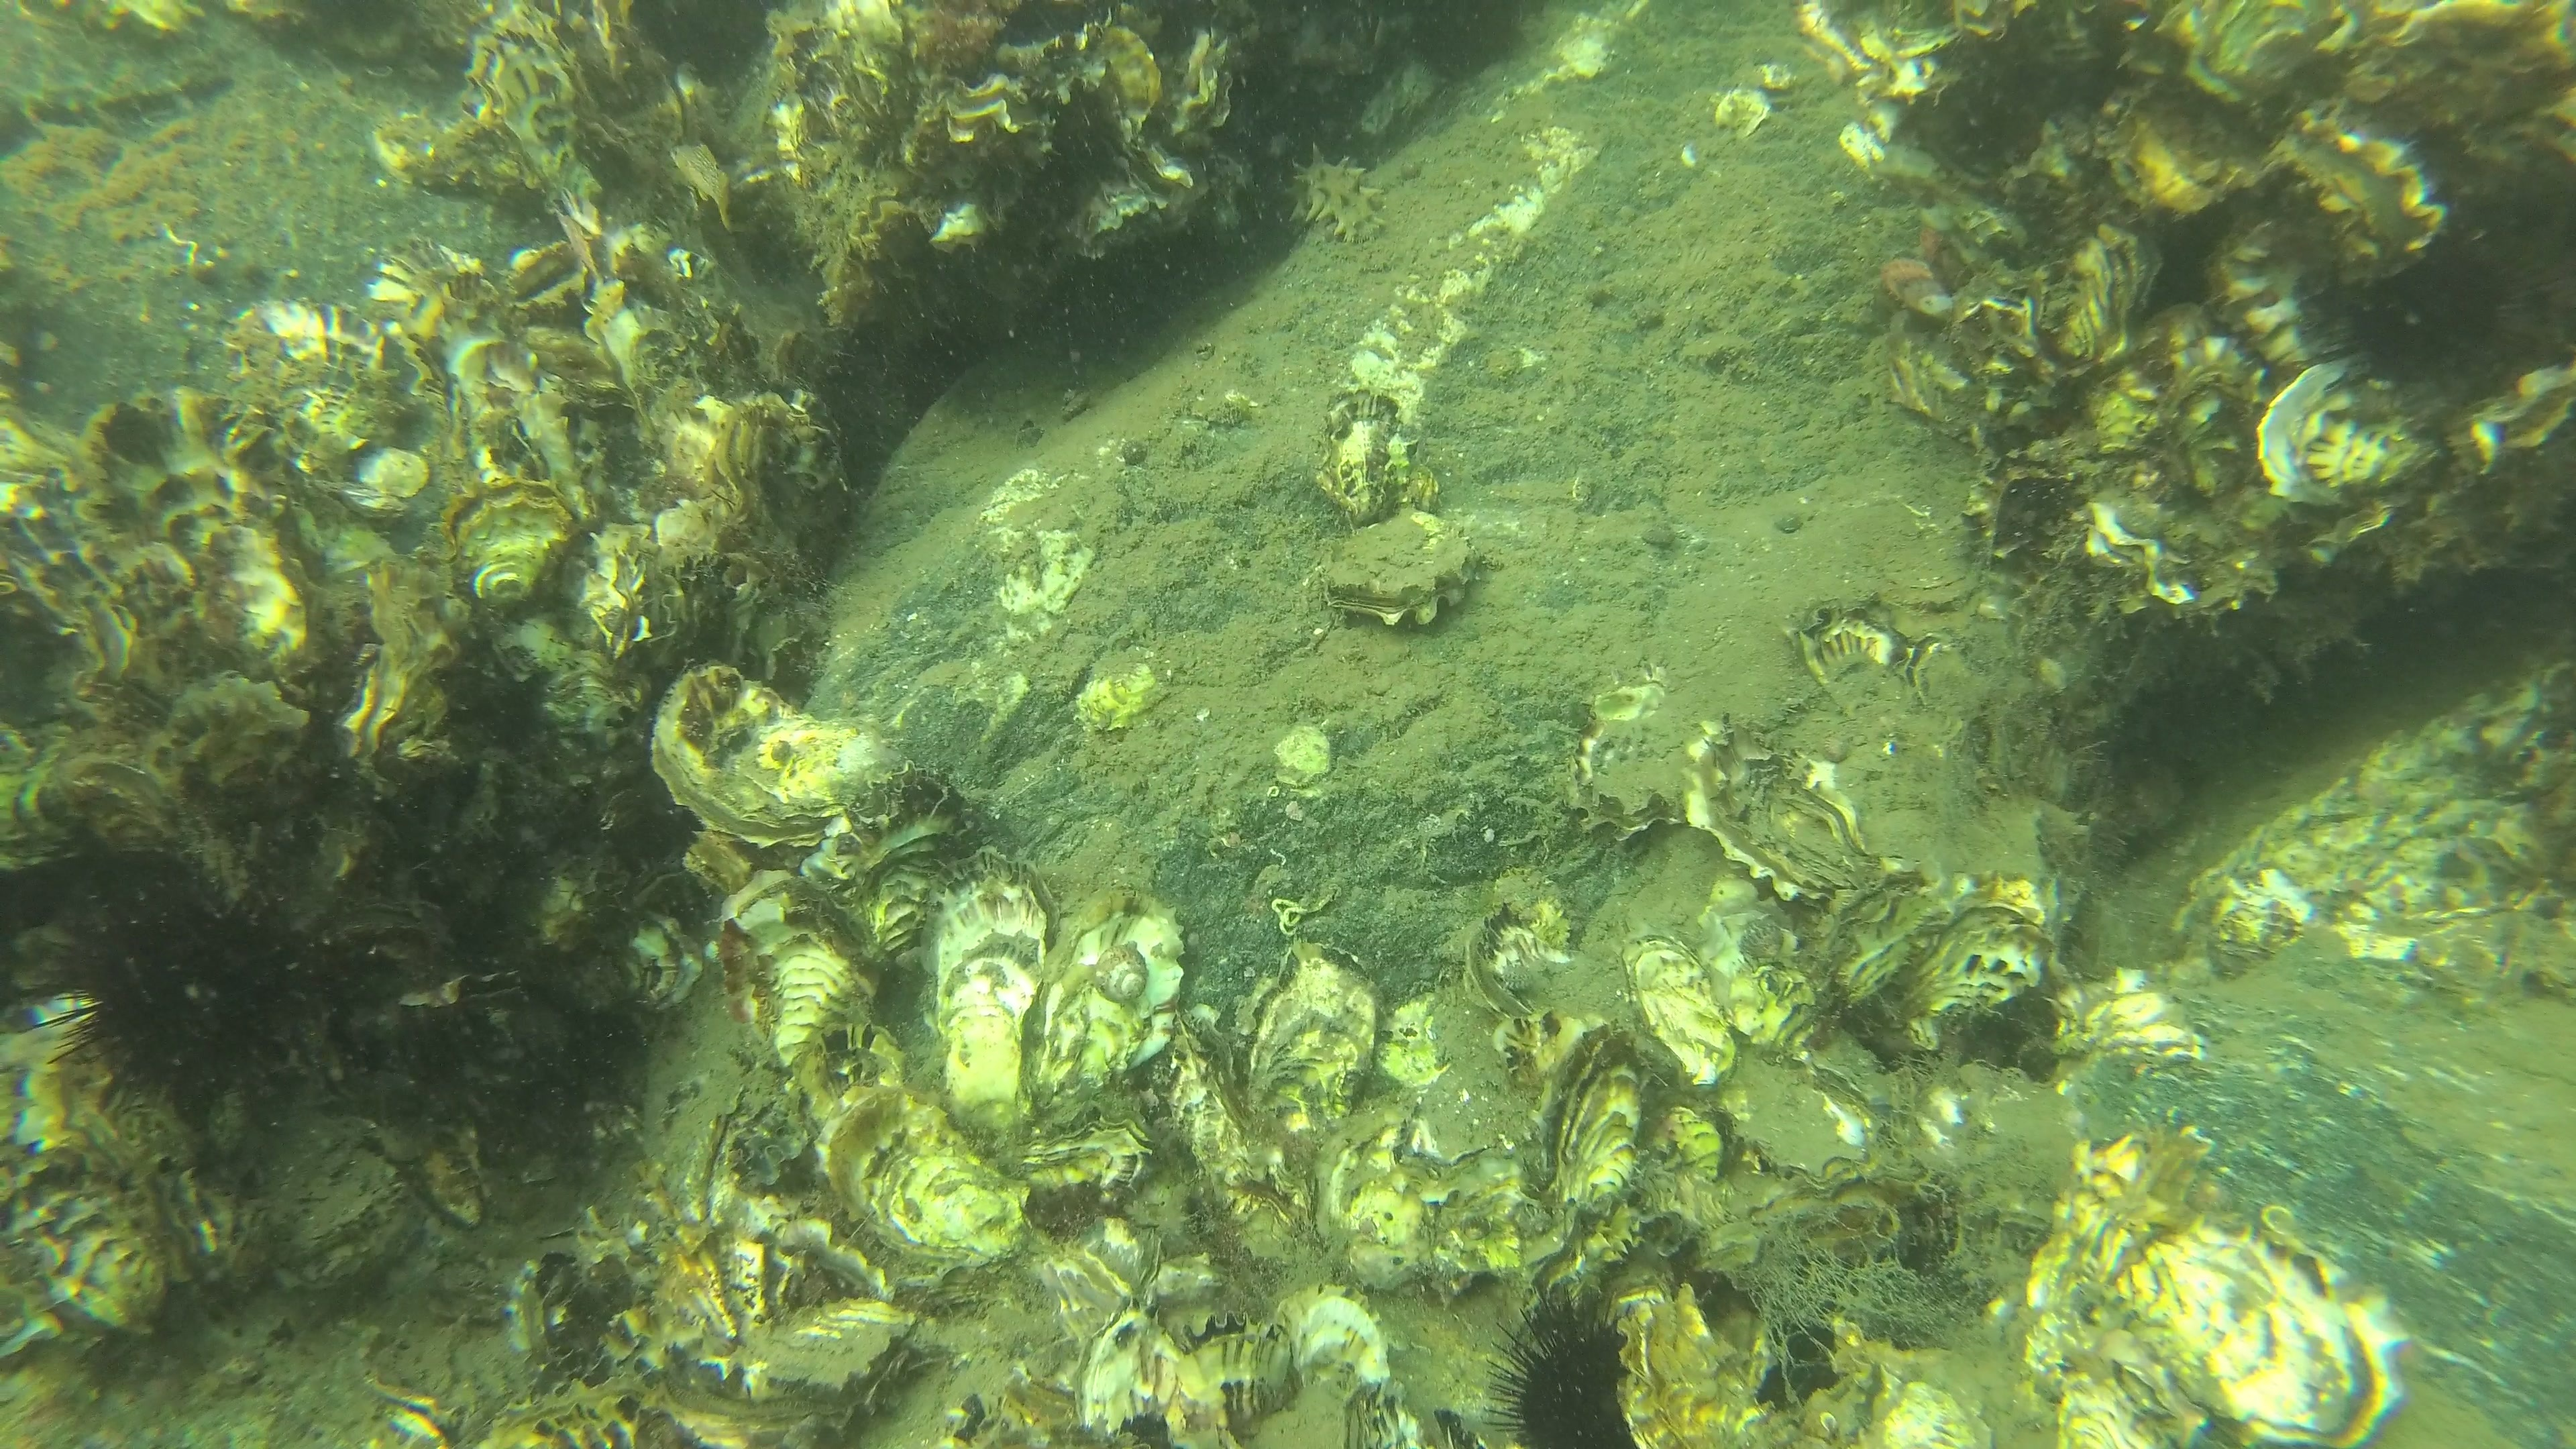echinus: (46, 874, 301, 1125), (1486, 1295, 1628, 1449)
holothurian: (1284, 147, 1384, 241)
